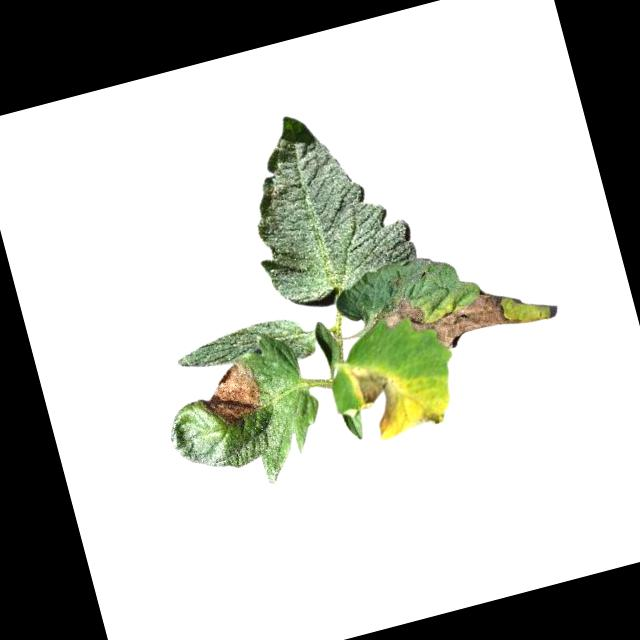Late_blight: (371, 269, 523, 365), (344, 353, 413, 446), (194, 359, 267, 430), (404, 395, 455, 433)
healthy: (226, 93, 422, 311), (169, 308, 319, 390)
